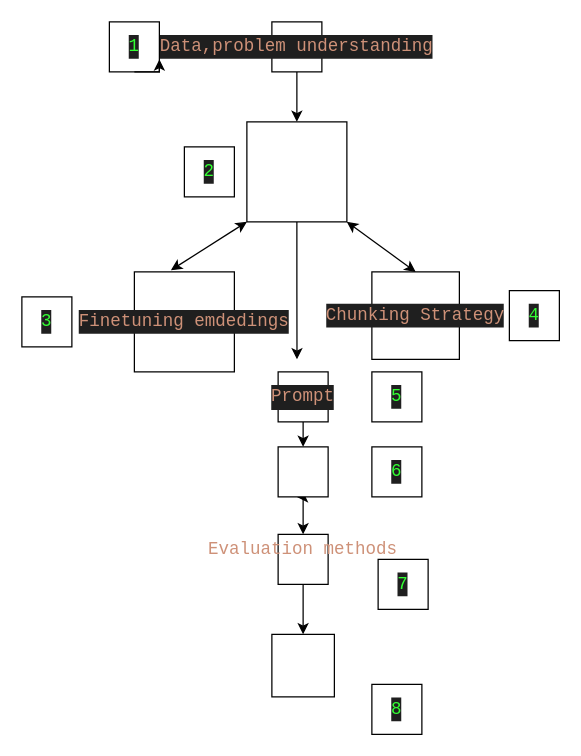
Image size: 581x756. Some labels were removed from this diagram. The shapes that lost their labels are listed below. From the top down, each one's box as (x1, y1, x2, y2) in pixels, then its label:
(246, 121, 347, 222): SGD
(277, 446, 328, 497): Metrics
(271, 633, 334, 697): Rag strategy selection
